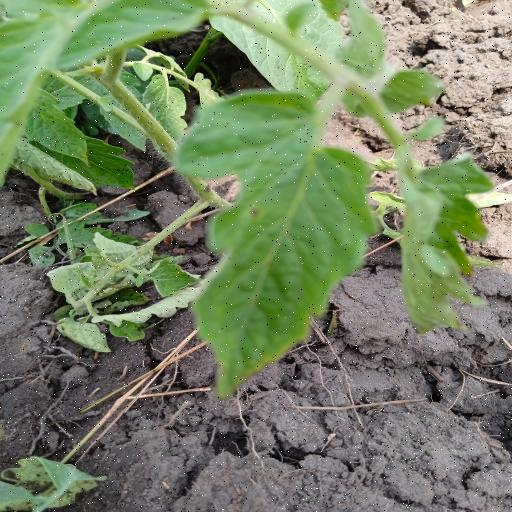Tomato_bacterial_wilt: (170, 79, 382, 402), (391, 152, 493, 339)
